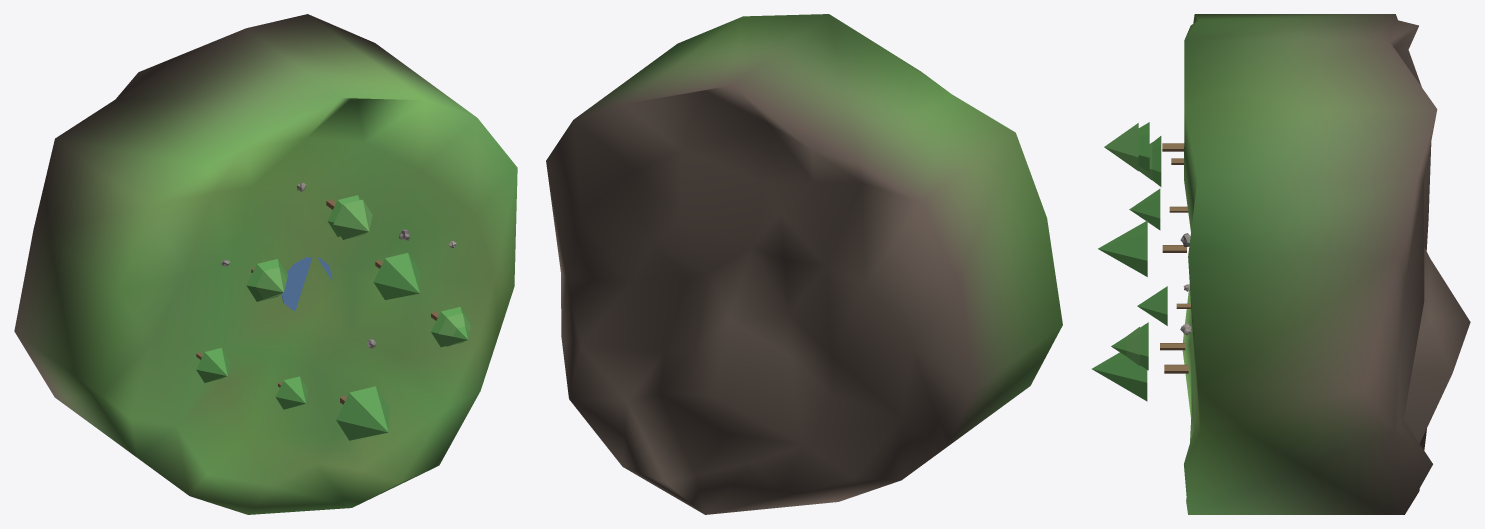
Rendered from floating_island.glb.
3 renders of one model, left to right at view 1: azimuth 30°, elevation 25°; view 2: azimuth 150°, elevation 25°; view 3: azimuth 270°, elevation 25°, orthographic. The views are drawn at different scales.
Parts seen in each view (by area): view 1: world; view 2: world; view 3: world.
Boxes of the visible parts, left/top/right/bottom form: world: left=14, top=14, right=517, bottom=514; world: left=546, top=14, right=1062, bottom=514; world: left=1092, top=14, right=1470, bottom=514.
Bounding box in the file's own units: 6.07 × 5.79 × 4.48.
